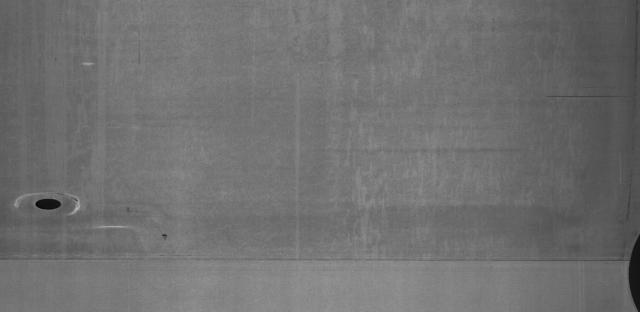punching_hole: (25, 195, 67, 216)
welding_line: (1, 248, 632, 269)
